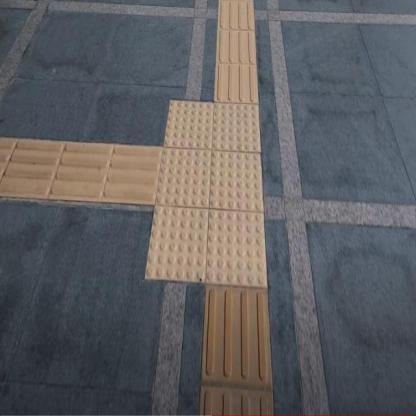podotacti: (124, 75, 290, 318), (0, 130, 155, 210), (197, 292, 276, 413), (215, 0, 258, 100)
